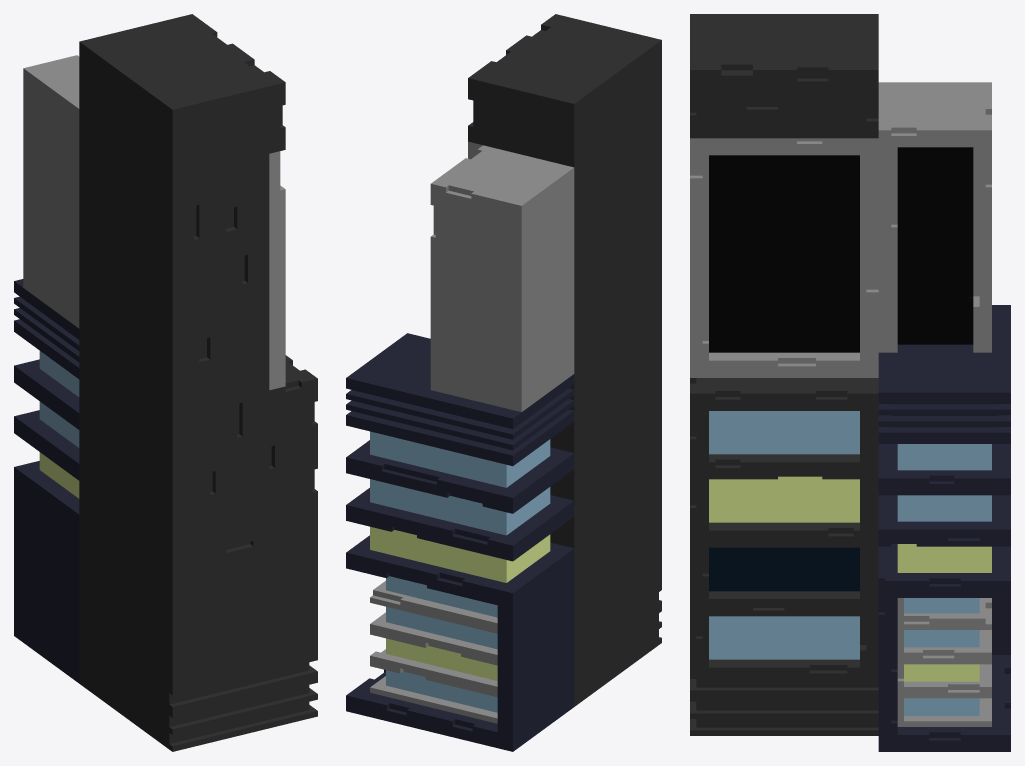
The model's file is TrainBuilding.obj.
3 views of the same model, side by side, from view 1: azimuth 30°, elevation 25°; view 2: azimuth 150°, elevation 25°; view 3: azimuth 270°, elevation 25° (orthographic). The views are drawn at different scales.
Bounding box in the file's own units: 3.3 × 11.4 × 5.1.
1 material, 1 textured.
